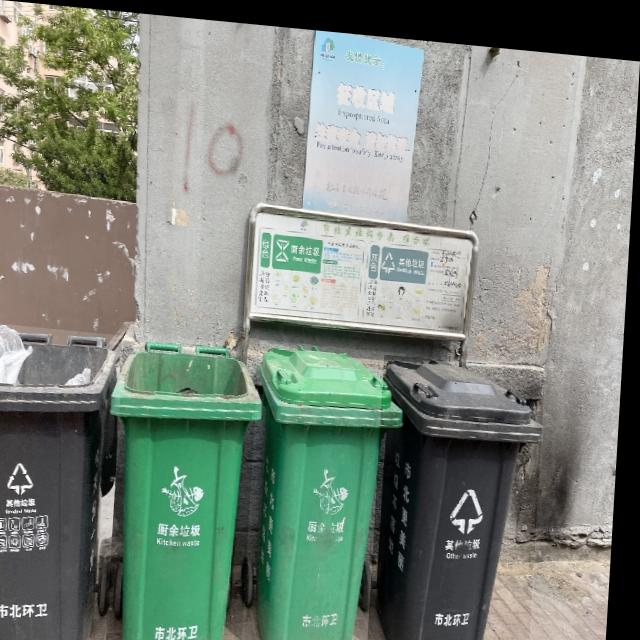garbage_bin: (374, 347, 549, 640), (104, 332, 269, 640), (249, 334, 410, 640)
overflow: (0, 322, 128, 640)
